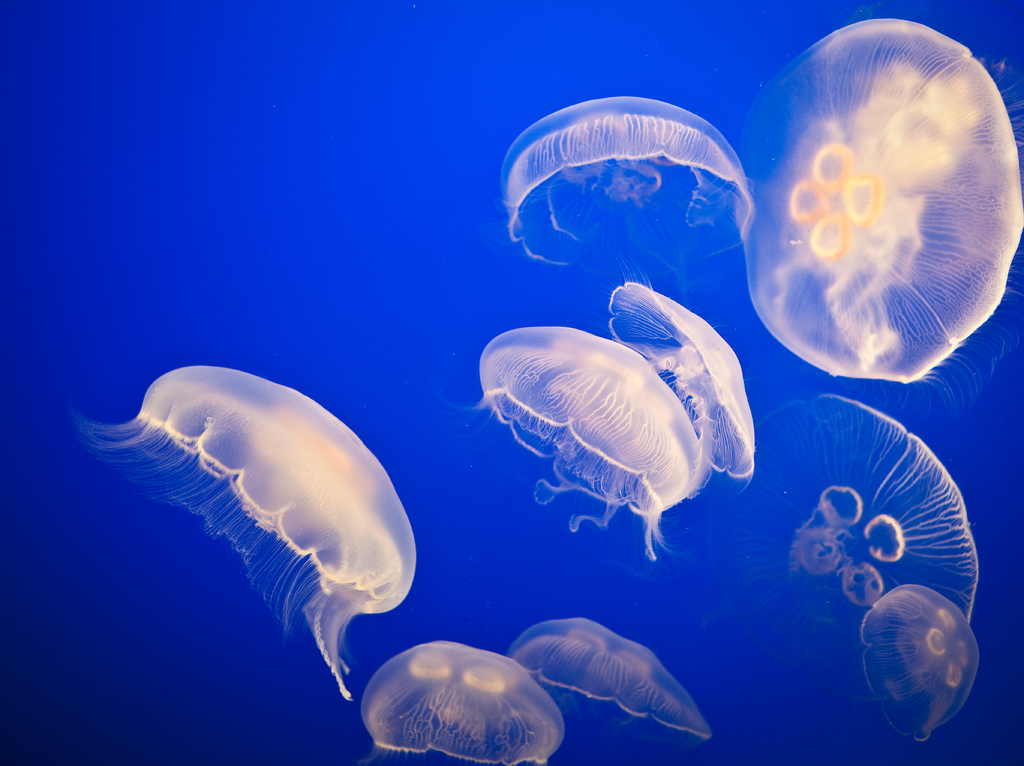Jellyfish: (734, 0, 1023, 413), (73, 362, 421, 700), (751, 390, 990, 672), (448, 322, 702, 568), (501, 97, 756, 285), (604, 276, 759, 490), (507, 612, 716, 746), (359, 638, 565, 765), (856, 578, 983, 744)
